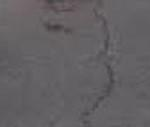crack: (86, 0, 121, 115)
